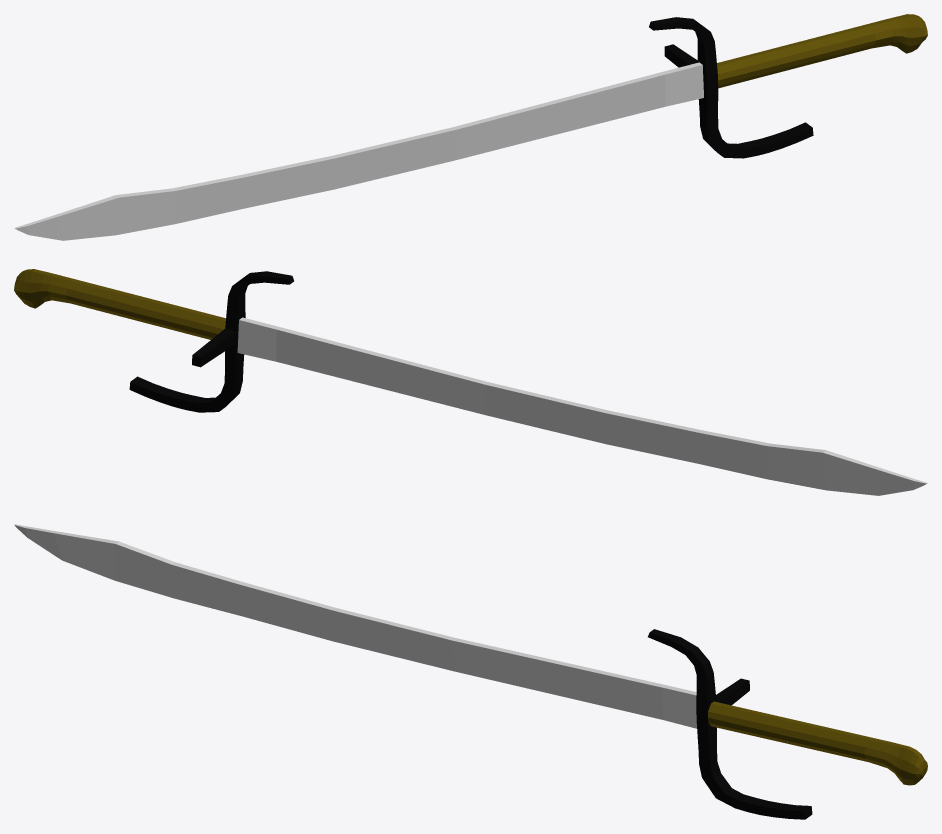
File: Messer.fbx
The picture shows the model from 3 angles, top to bottom: view 1: azimuth 30°, elevation 25°; view 2: azimuth 150°, elevation 25°; view 3: azimuth 330°, elevation 25°; orthographic projection.
Parts seen in each view (by area): view 1: Messer; view 2: Messer; view 3: Messer.
Boxes of the visible parts, <box> form: Messer: <box>14,14,927,240</box>; Messer: <box>14,269,927,495</box>; Messer: <box>14,524,927,819</box>.
Size of the model in its own units: 474 by 76.88 by 39.79.
